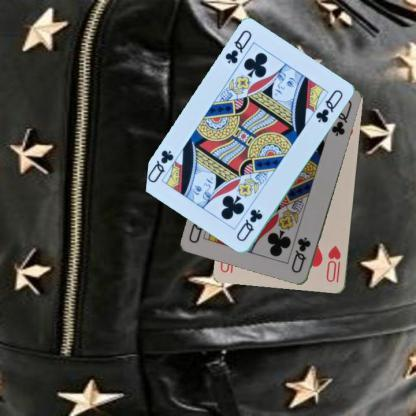10h: (324, 244, 342, 284)
Qc: (222, 27, 254, 66), (233, 207, 264, 243), (288, 234, 312, 274)
